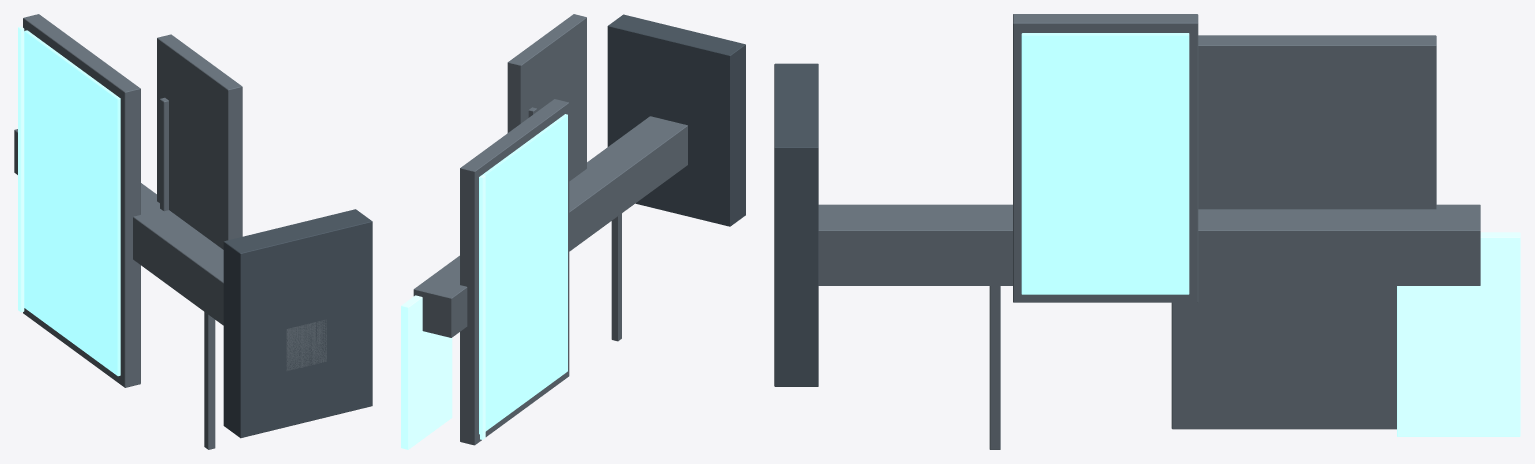
File: mass_billboard_stack_rift_r.glb
3 renders of one model, left to right at view 1: azimuth 30°, elevation 25°; view 2: azimuth 150°, elevation 25°; view 3: azimuth 270°, elevation 25°, orthographic. The views are drawn at different scales.
Visible parts, largest first — view 1: FlightKit_MassBillboard_rift_R; view 2: FlightKit_MassBillboard_rift_R; view 3: FlightKit_MassBillboard_rift_R.
Part boxes in pixels (x1,y1,x2,y2): FlightKit_MassBillboard_rift_R: (14,14,372,449); FlightKit_MassBillboard_rift_R: (401,14,745,449); FlightKit_MassBillboard_rift_R: (774,14,1520,449).
Bounding box in the file's own units: 4.5 × 11.25 × 16.9.
